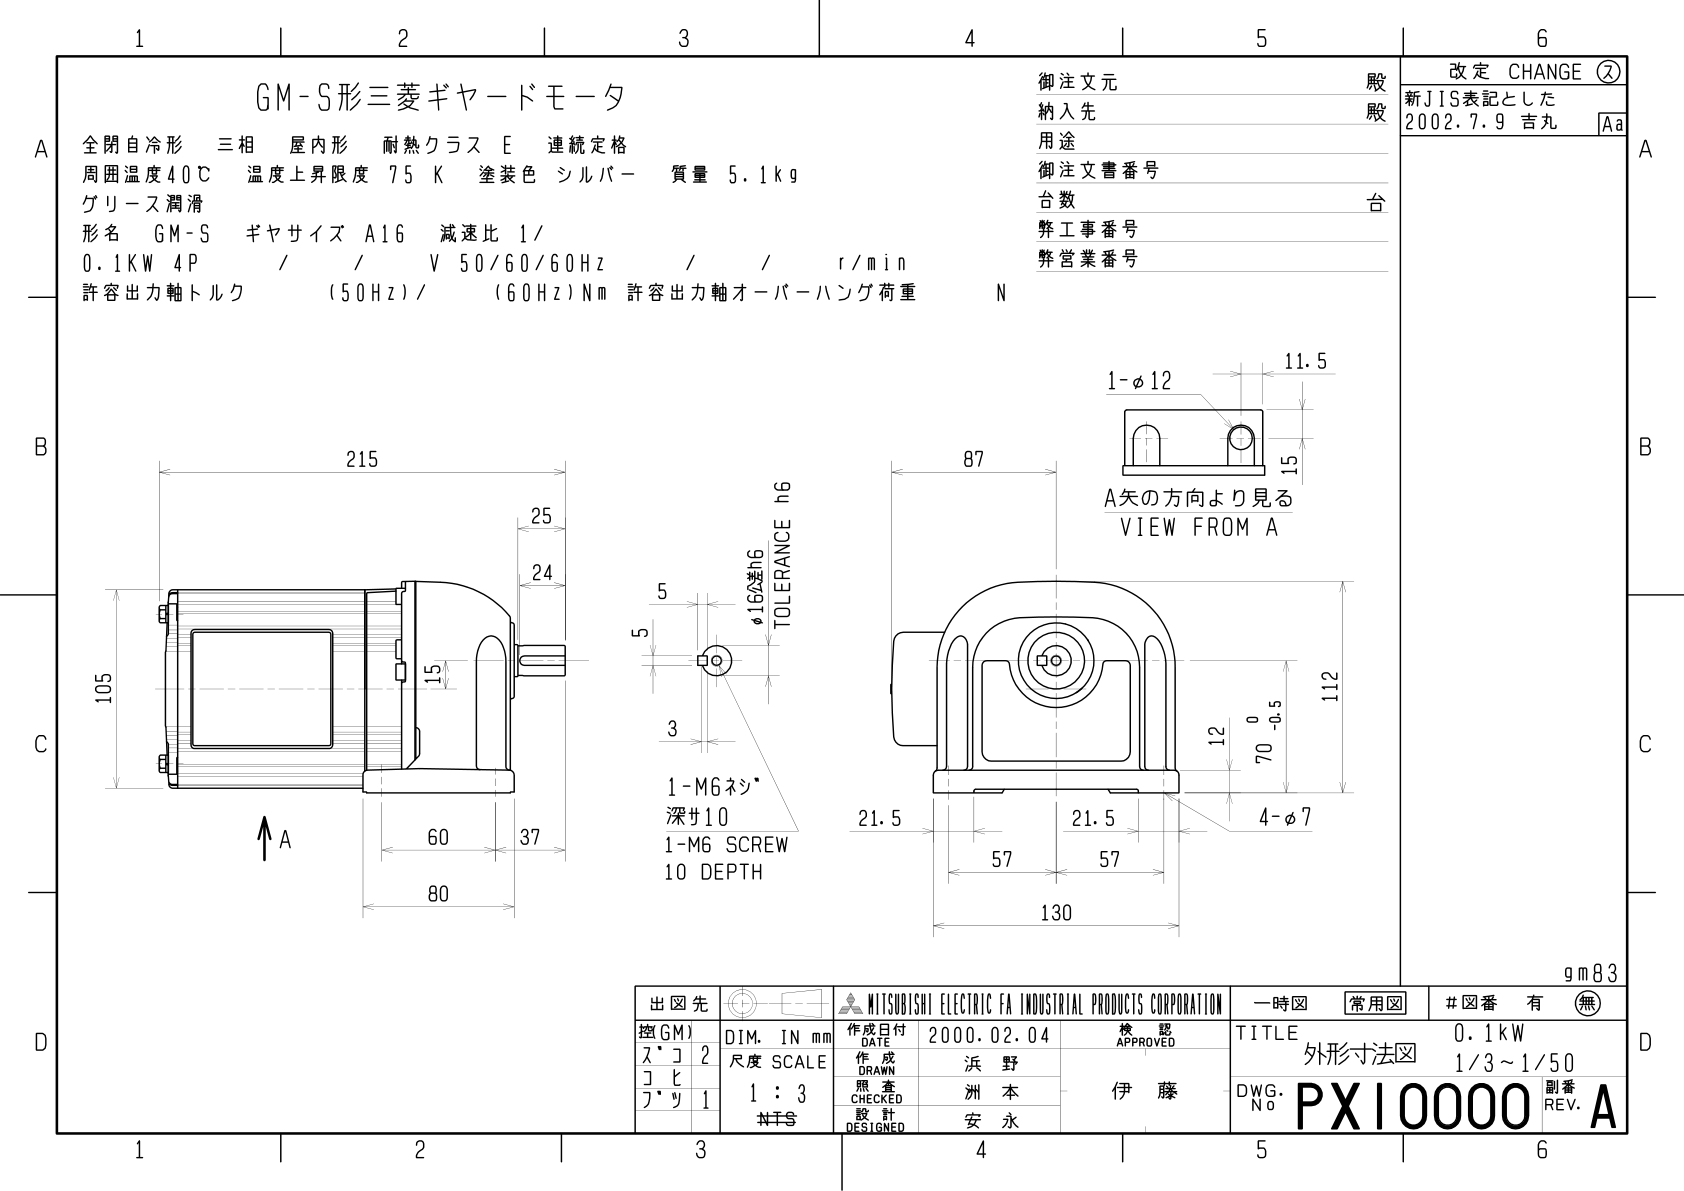GM_S_屋内＿三相_脚: (75, 336, 1379, 965)
